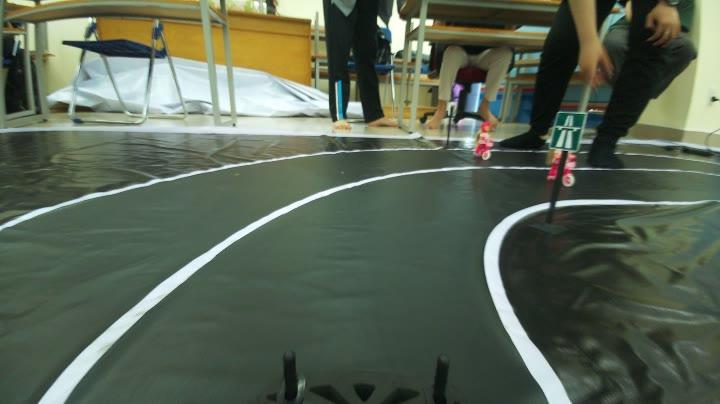highway_entry: (544, 106, 588, 153)
